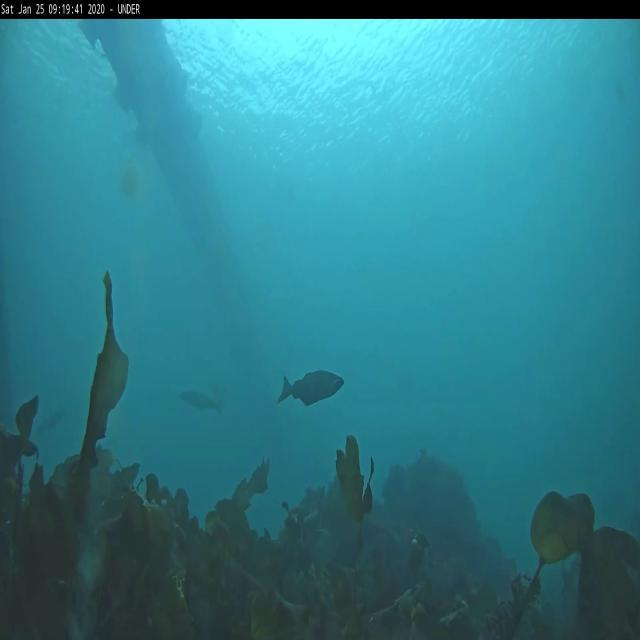fish: (276, 369, 346, 410), (176, 387, 226, 415)
